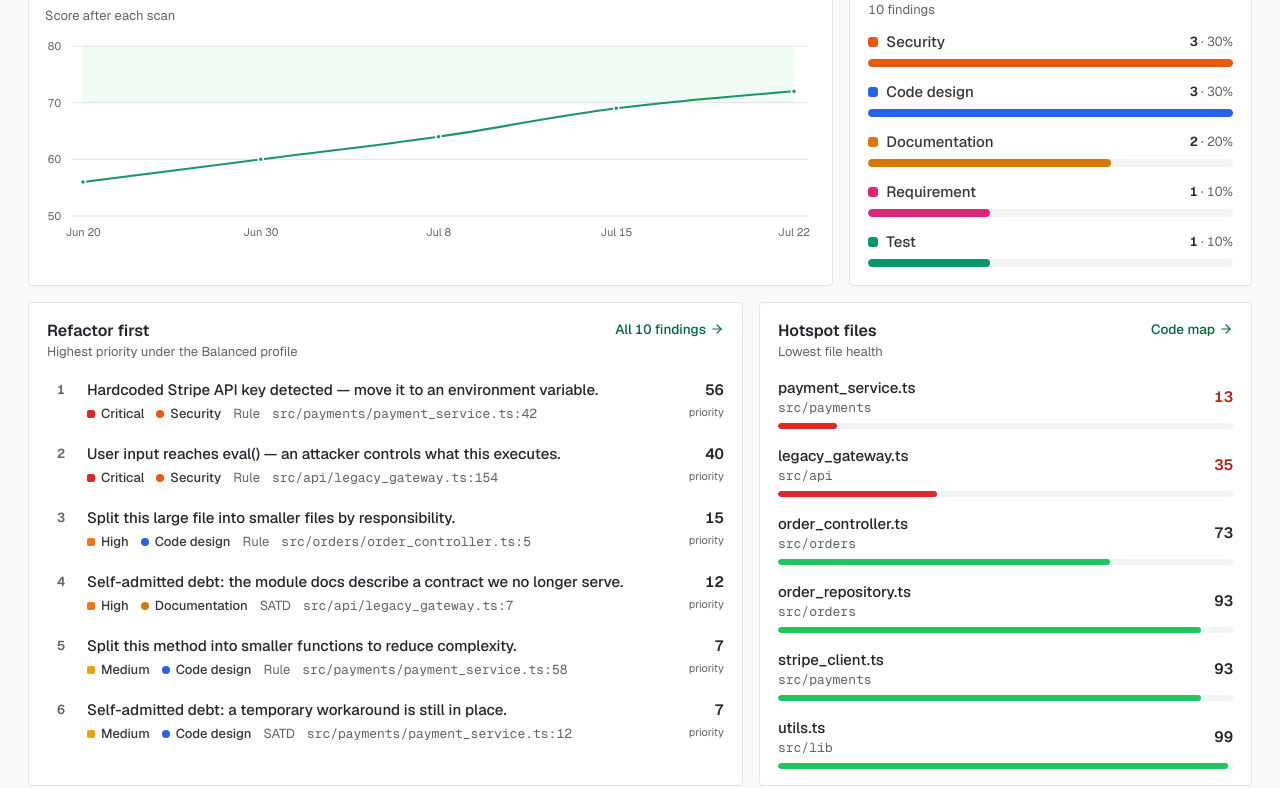
Test: selecting a finding opens the findings and detail view
(page scrolled)
Click the button "Hardcoded Stripe API key" at (385, 400), box [37,368,734,432]
(page scrolled)
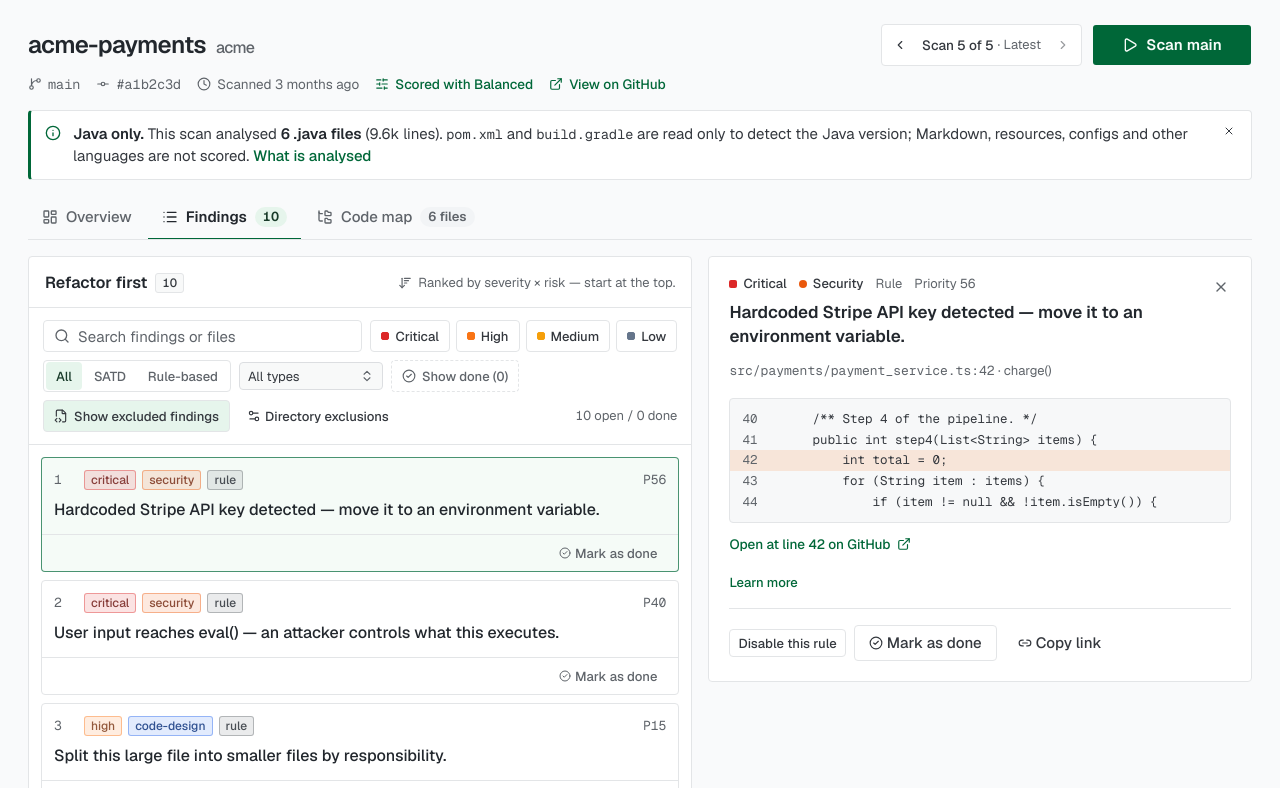
Expected: the heading "Refactor first" is shown, [45,271,148,295]
Result: the heading "Hardcoded Stripe API key detected — move it to an environment variable." is shown at [729,301,1193,348]
